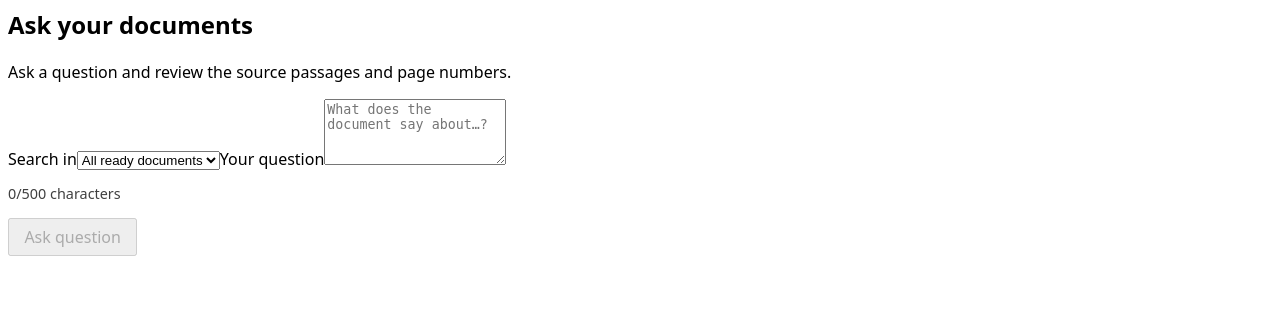
AskQuestion › shows an error when the answer request fails
Step 1. Type "Summarize the report." into the text box labelled "Your question" → (415, 132), box [324,99,506,165]
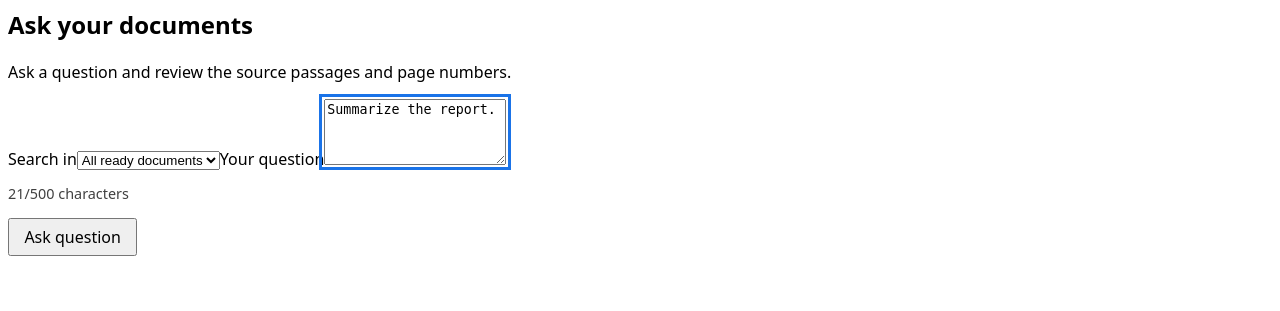
Step 2. Click the button "Ask question" → (73, 237), box [8,218,137,256]
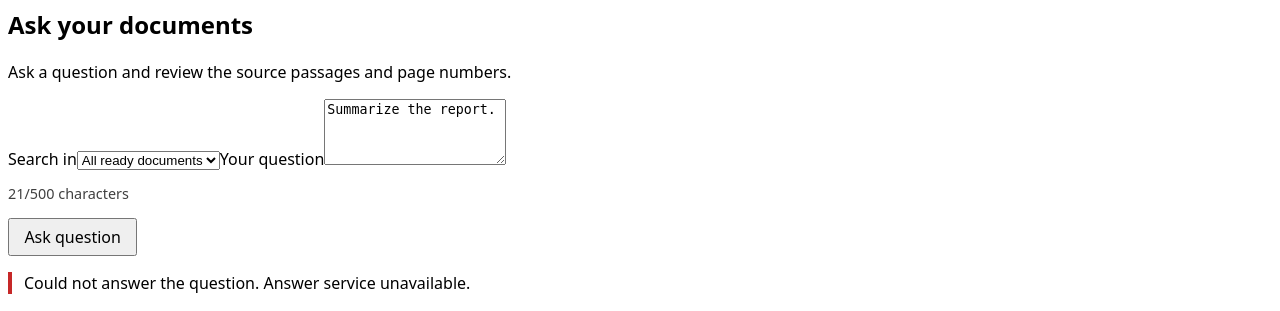
Now the message "Could not answer the question. Answer service unavailable." is shown, box [8,272,1272,294]
